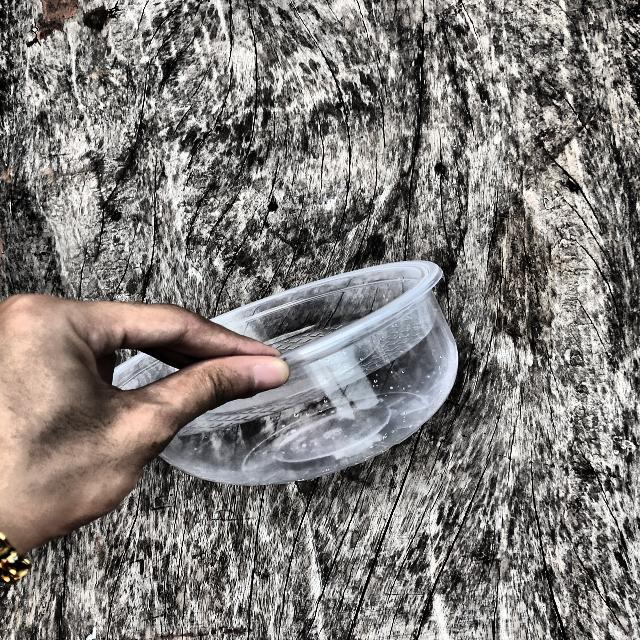plastic container: (119, 256, 500, 497)
